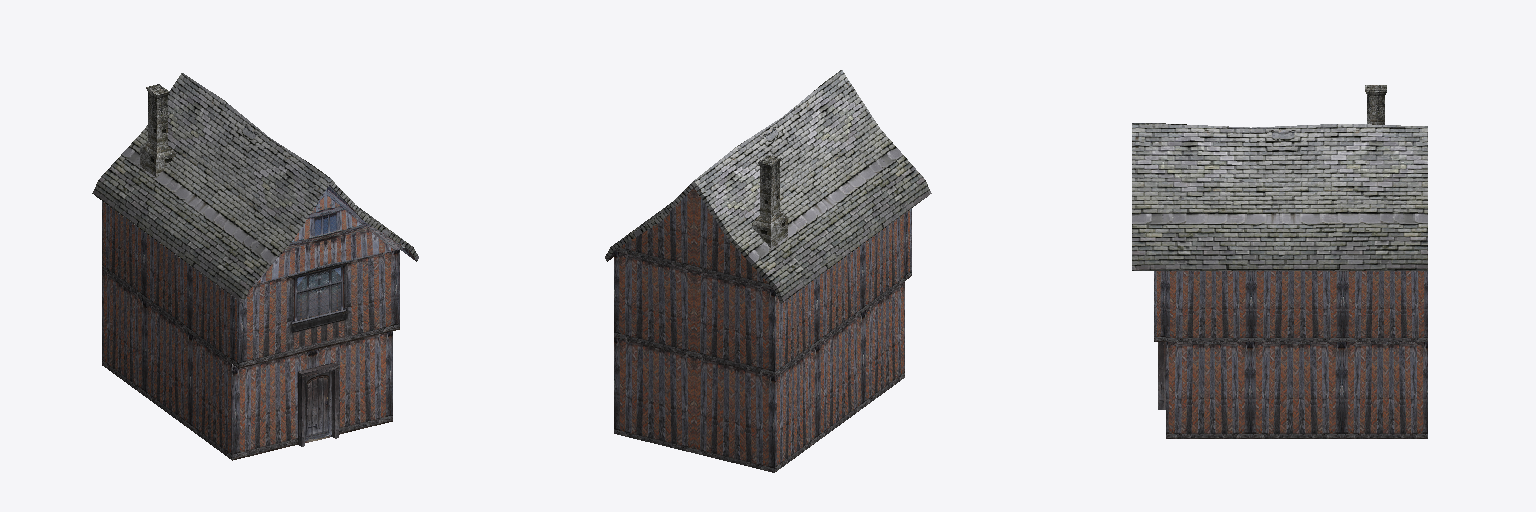
The picture shows the model from 3 angles: view 1: azimuth 30°, elevation 25°; view 2: azimuth 150°, elevation 25°; view 3: azimuth 270°, elevation 25°; orthographic projection.
Visible parts, largest first — view 1: med_house_15; view 2: med_house_15; view 3: med_house_15.
Part boxes in pixels (bbox=[...]): med_house_15: bbox=[92, 73, 418, 460]; med_house_15: bbox=[605, 70, 931, 472]; med_house_15: bbox=[1132, 85, 1427, 438].
Size of the model in its own units: 235 by 358 by 335.
Materials: 1 (1 with a texture image).